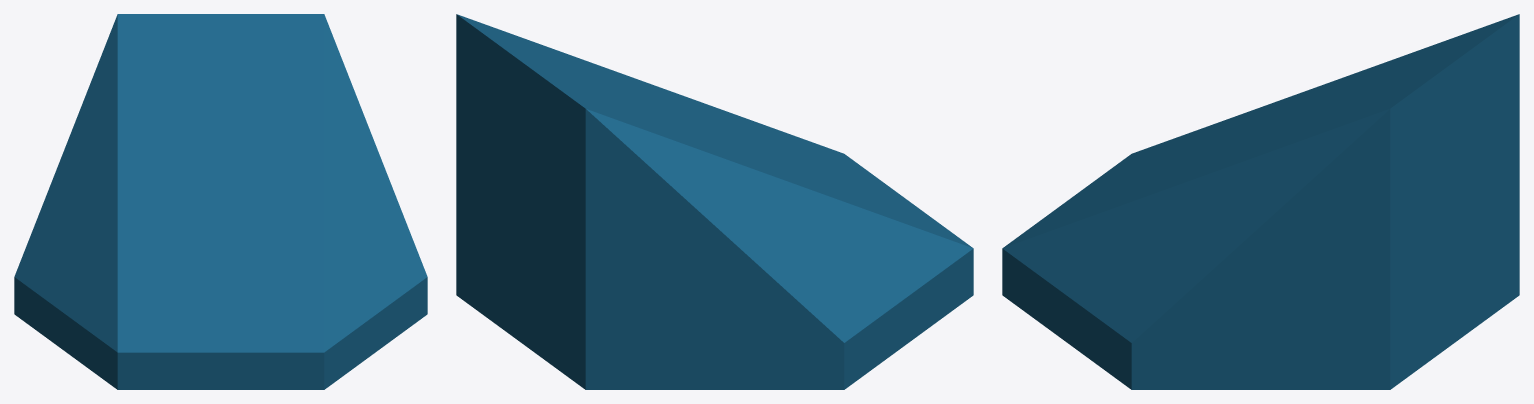
Rendered from _deep_water_tile_2.glb.
3 views of the same model, side by side, from view 1: azimuth 30°, elevation 25°; view 2: azimuth 150°, elevation 25°; view 3: azimuth 270°, elevation 25° (orthographic). The views are drawn at different scales.
Visible parts, largest first — view 1: DeepWaterStairTileWater; view 2: DeepWaterStairTileWater; view 3: DeepWaterStairTileWater.
Part boxes in pixels (x1,y1,x2,y2): DeepWaterStairTileWater: [14, 14, 427, 389]; DeepWaterStairTileWater: [456, 14, 973, 389]; DeepWaterStairTileWater: [1002, 14, 1519, 389].
Bounding box in the file's own units: 1.73 × 1.2 × 2.
1 material, 1 textured.
